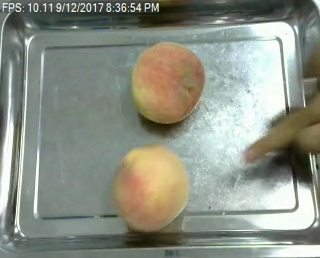Peach: (113, 144, 188, 231), (131, 41, 204, 124)
